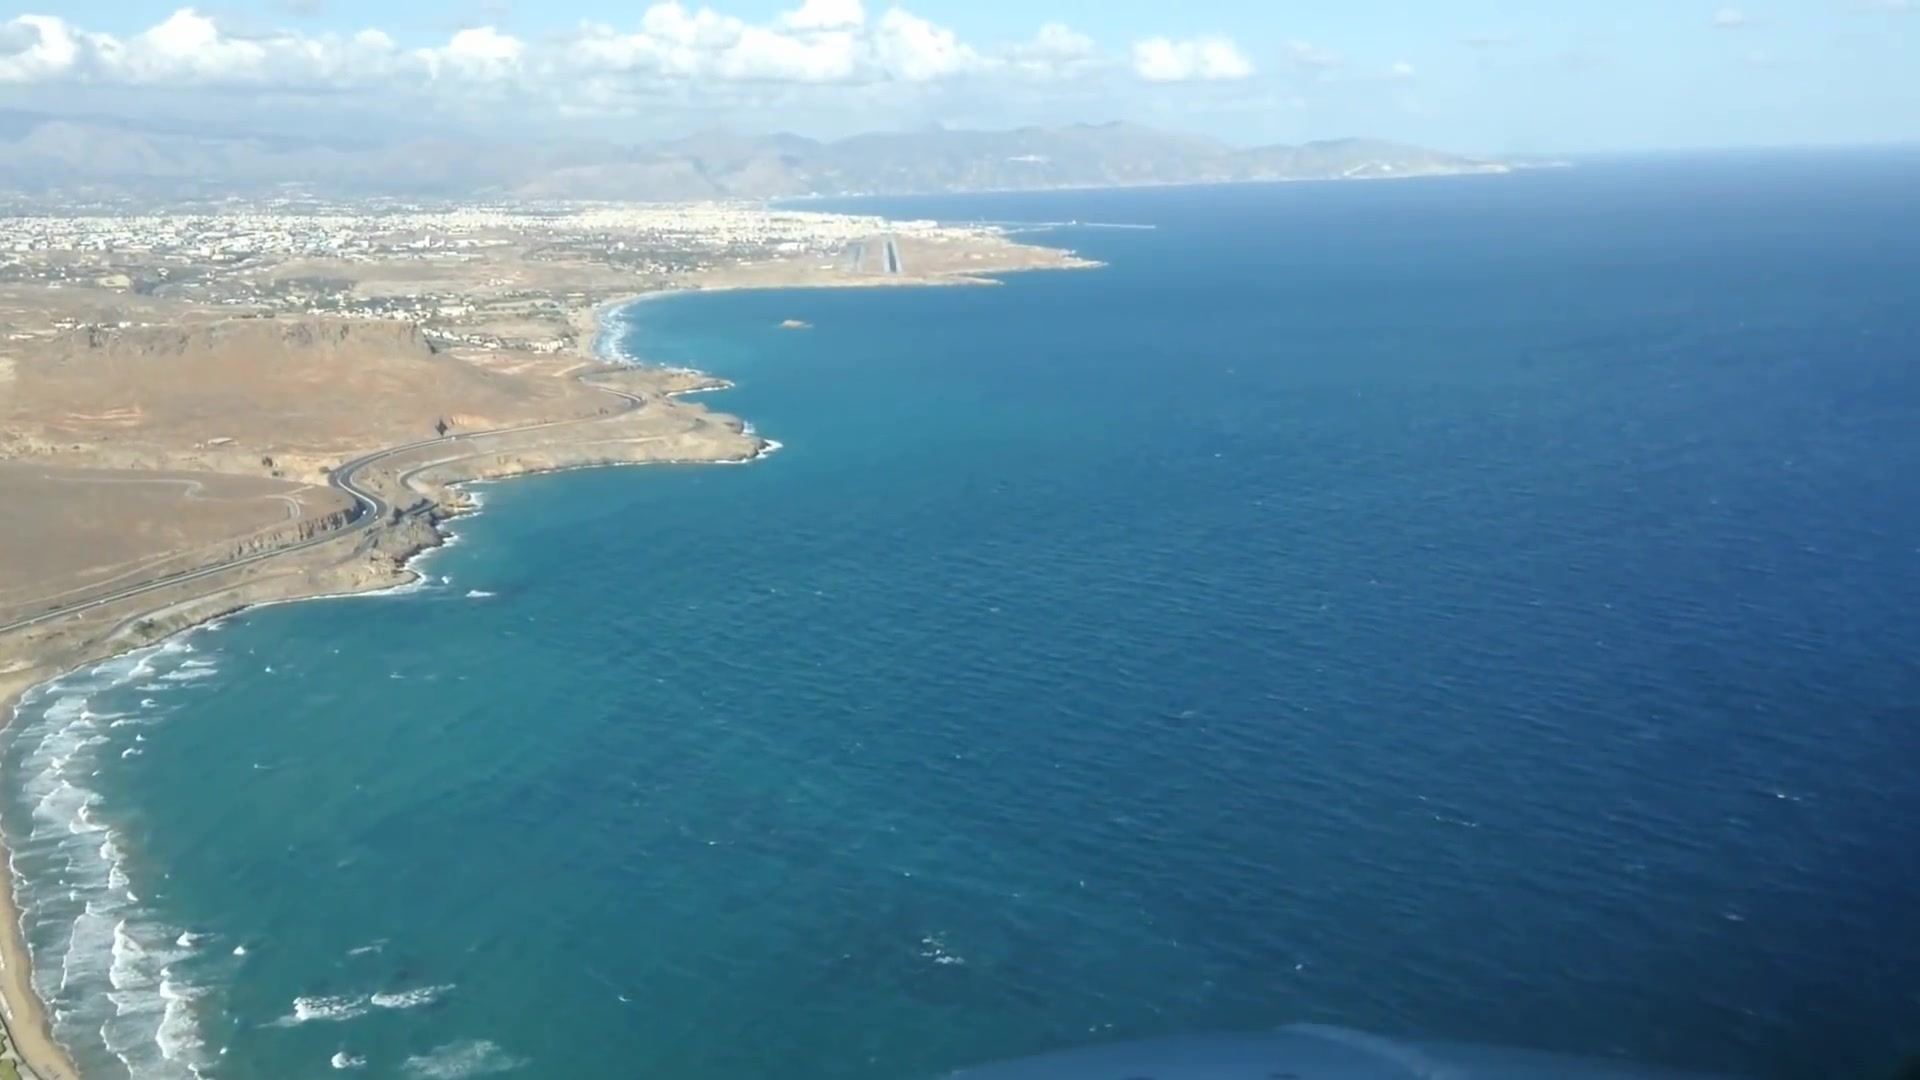runway: (880, 237, 905, 273)
